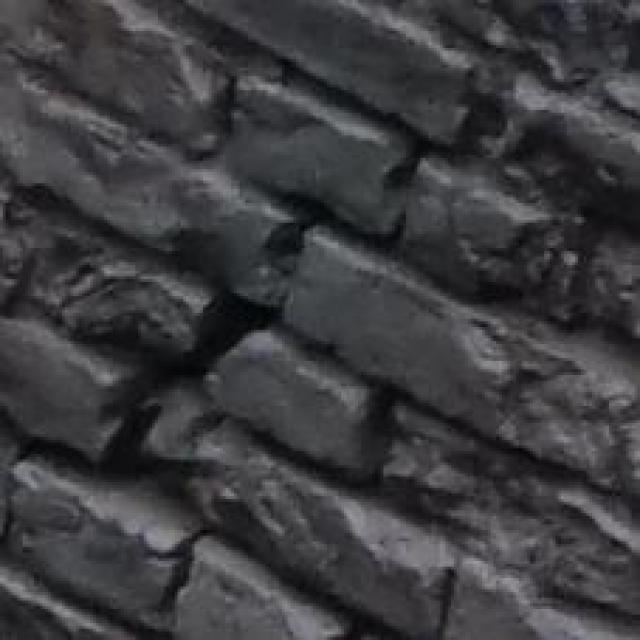Crack: (31, 142, 397, 596)
